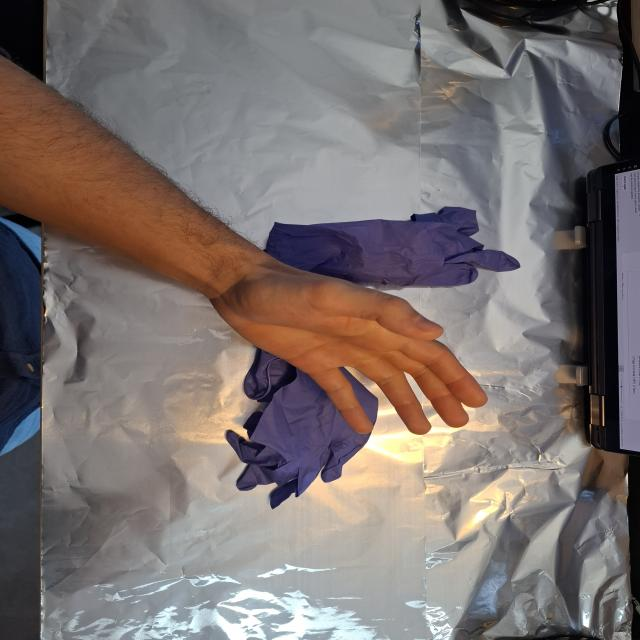glove_off: (207, 266, 490, 435)
